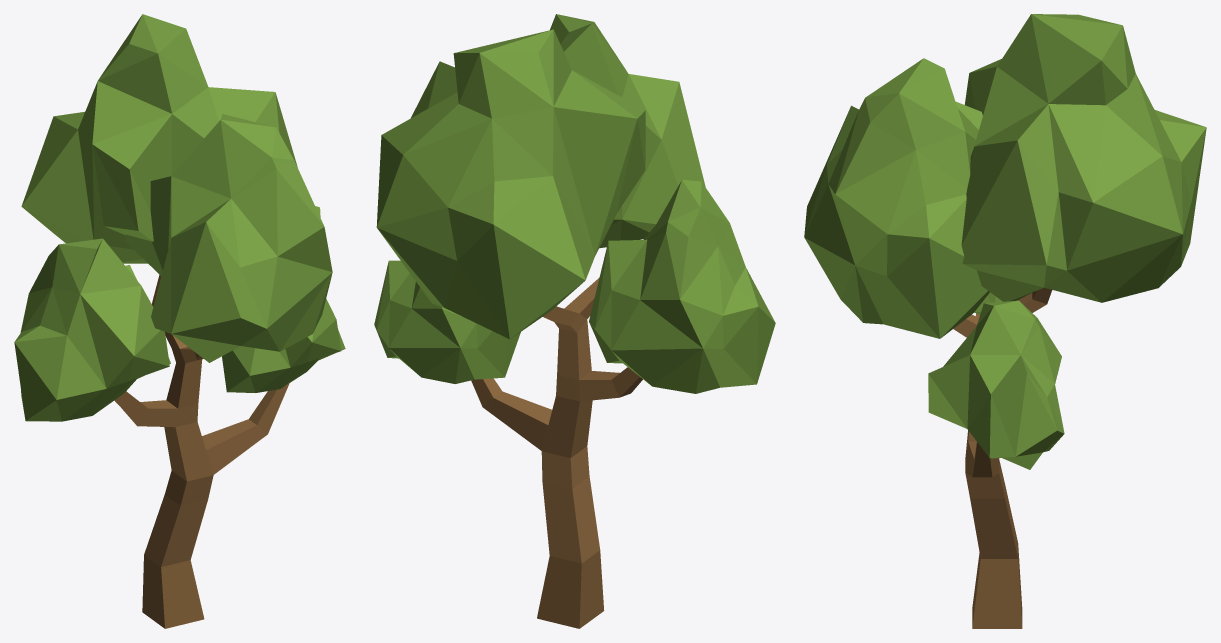
Rendered from OakTree1.fbx.
3 renders of one model, left to right at view 1: azimuth 30°, elevation 25°; view 2: azimuth 150°, elevation 25°; view 3: azimuth 270°, elevation 25°, orthographic. The views are drawn at different scales.
Visible parts, largest first — view 1: Cube.263, Cube.262, Cube.259, Cube.264, Cube.261; view 2: Cube.262, Cube.259, Cube.264, Cube.263, Cube.261; view 3: Cube.262, Cube.263, Cube.261, Cube.264.
Boxes of the visible parts, <box> form: Cube.263: <box>125,114,332,362</box>; Cube.262: <box>21,14,297,263</box>; Cube.259: <box>14,238,170,421</box>; Cube.264: <box>114,275,289,628</box>; Cube.261: <box>222,299,345,392</box>; Cube.262: <box>376,29,645,339</box>; Cube.259: <box>589,180,775,393</box>; Cube.264: <box>471,277,642,628</box>; Cube.263: <box>550,14,705,248</box>; Cube.261: <box>374,260,520,383</box>; Cube.262: <box>961,14,1206,302</box>; Cube.263: <box>804,58,989,338</box>; Cube.261: <box>928,300,1064,469</box>; Cube.264: <box>953,287,1052,628</box>.
Size of the model in its own units: 498 by 777 by 467.
